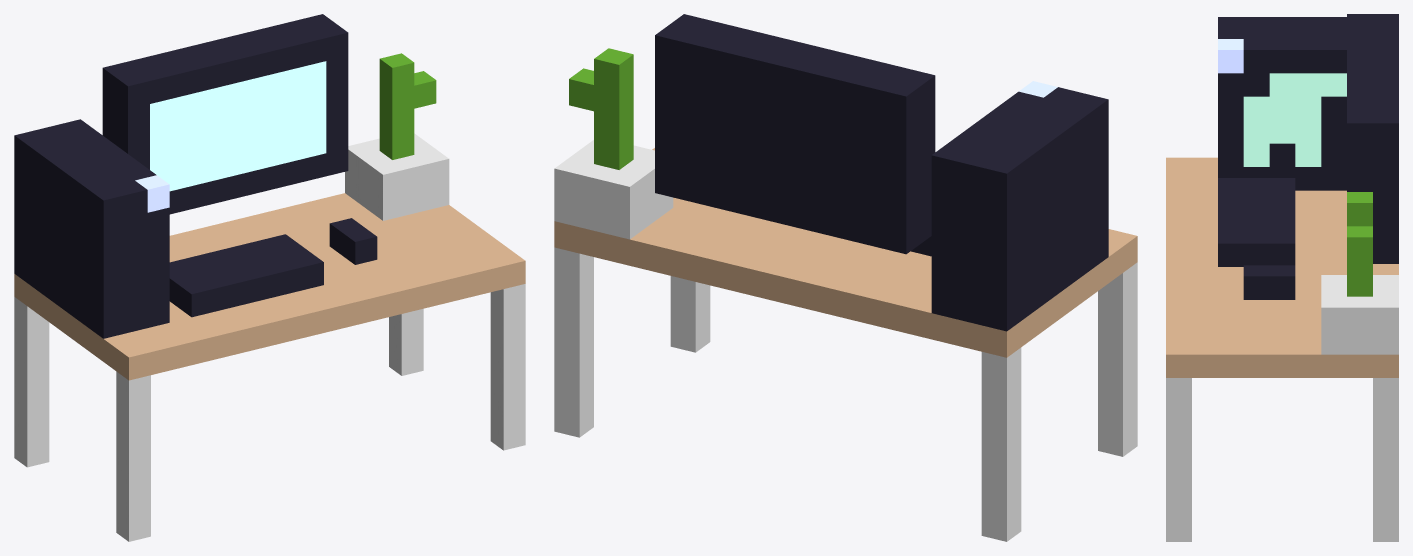
File: desk.gltf
The picture shows the model from 3 angles, left to right: view 1: azimuth 30°, elevation 25°; view 2: azimuth 150°, elevation 25°; view 3: azimuth 270°, elevation 25°; orthographic projection. The views are drawn at different scales.
Bounding box in the file's own units: 18 × 16 × 9.
2 materials, 2 textured.
